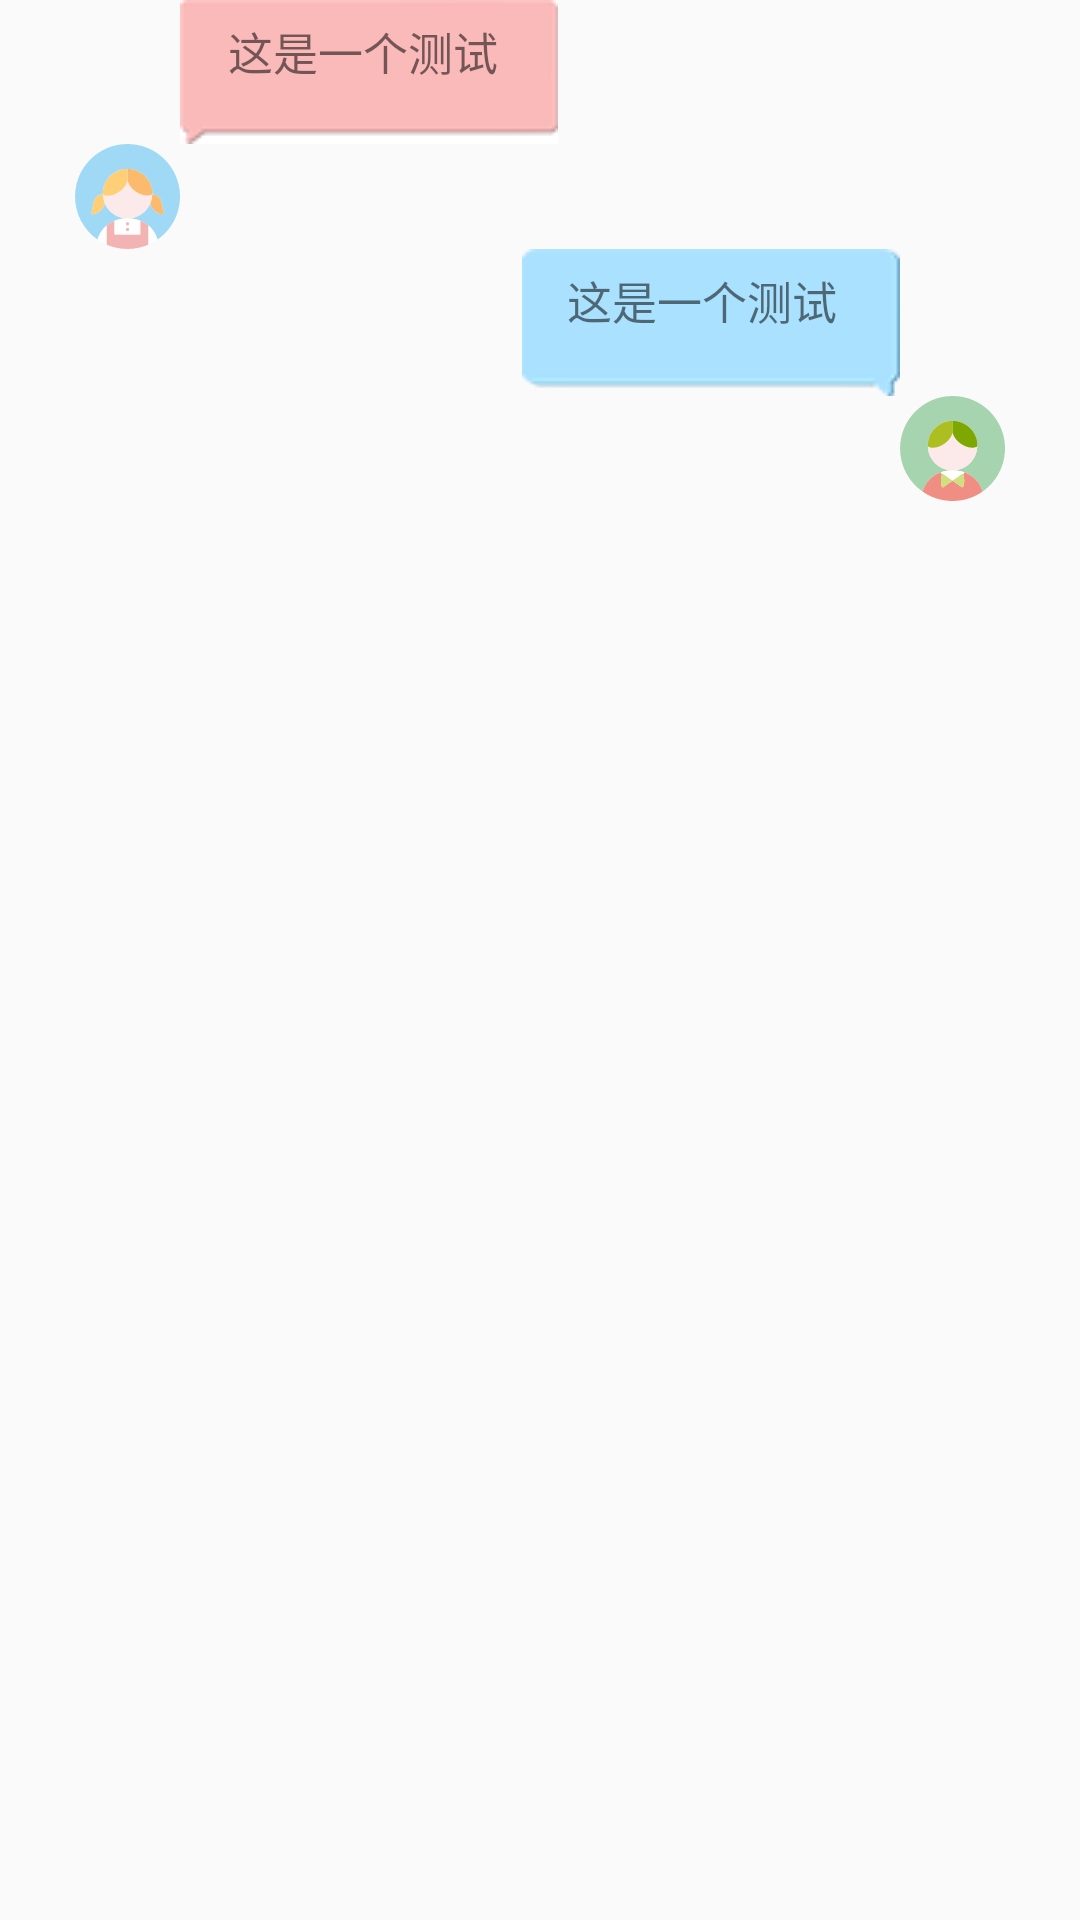

Named icons in this screenshot (1080px×1920px) and their bounding boxes, (x1, y1, x2, y2):
boy: (900, 396, 1005, 501)
girl: (75, 144, 180, 249)
